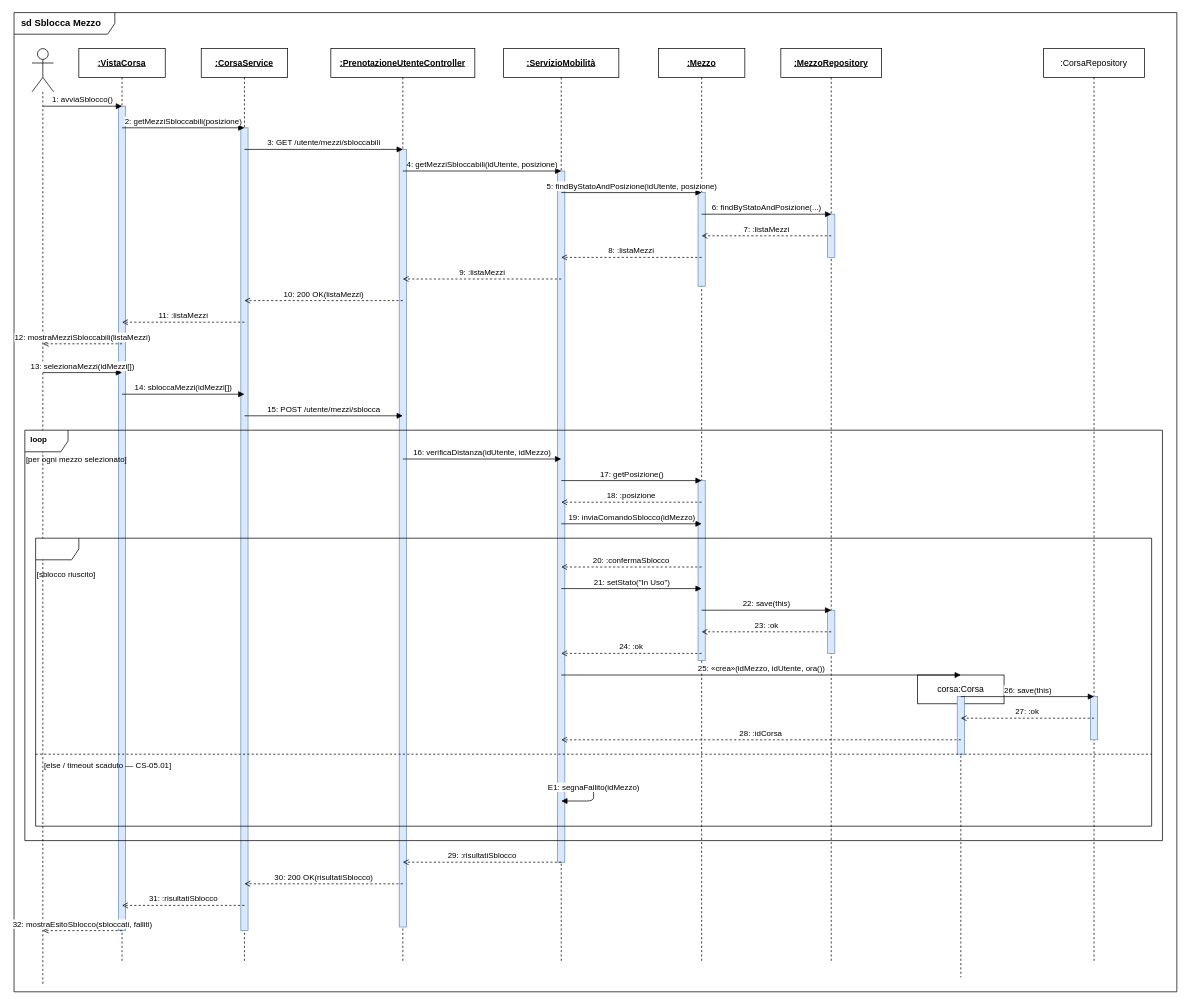
Image size: 1189x1004. Some labels were removed from this diagram. The shapes that lost their labels are listed below. From the top down, each one's centre as x and y in pixels, then its label:
point 42,70: utente:Utente
point 593,681: alt
